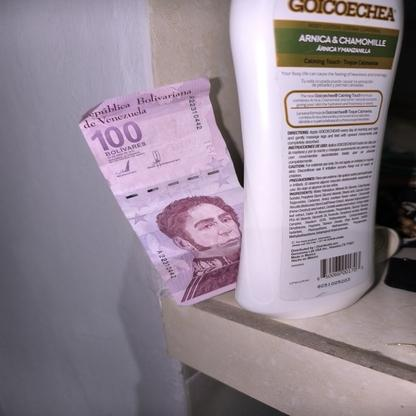one_hundred-front-vef: (77, 75, 245, 309)
